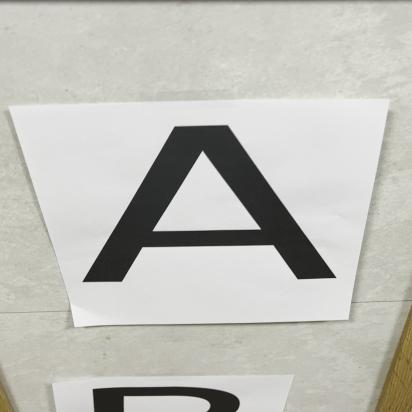seat: (82, 120, 374, 318)
